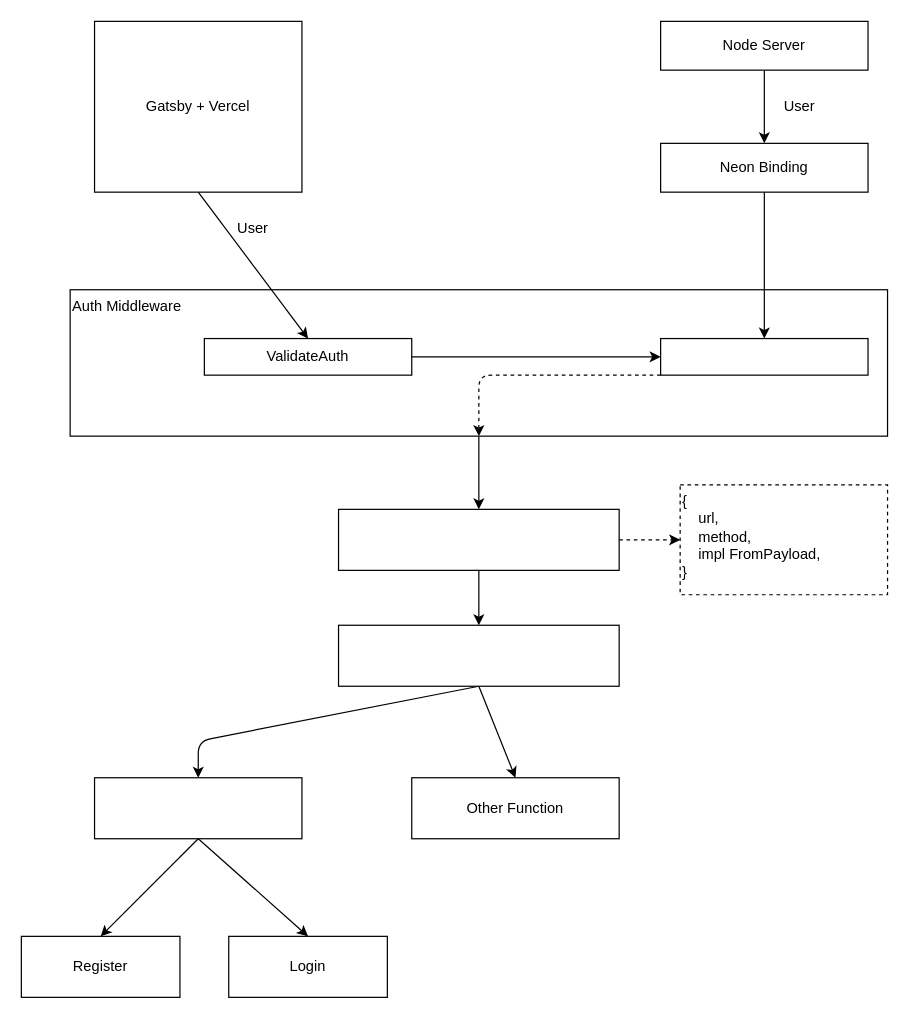
This 909x1019 diagram has some shape labels left out. The centre of each missing label's shape, as x and y in pixels:
"Auth: OAuth2, Legacy" belongs at point (197, 808).
"AuthAs" belongs at point (763, 356).
"Request Parser" belongs at point (478, 539).
"Router" belongs at point (478, 655).
